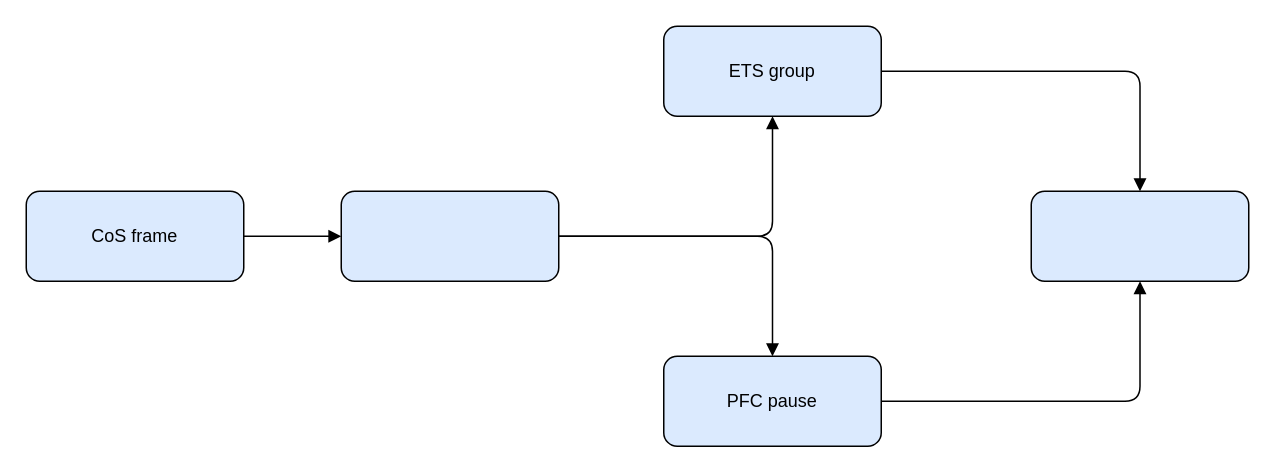
This 1275x473 diagram has some shape labels left out. The centre of each missing label's shape, as x and y in pixels:
"DCBX peer" goes at (1139,235).
"dot1p map" goes at (449,235).
